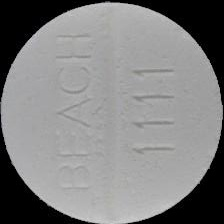68151-2193: (0, 0, 224, 224)
